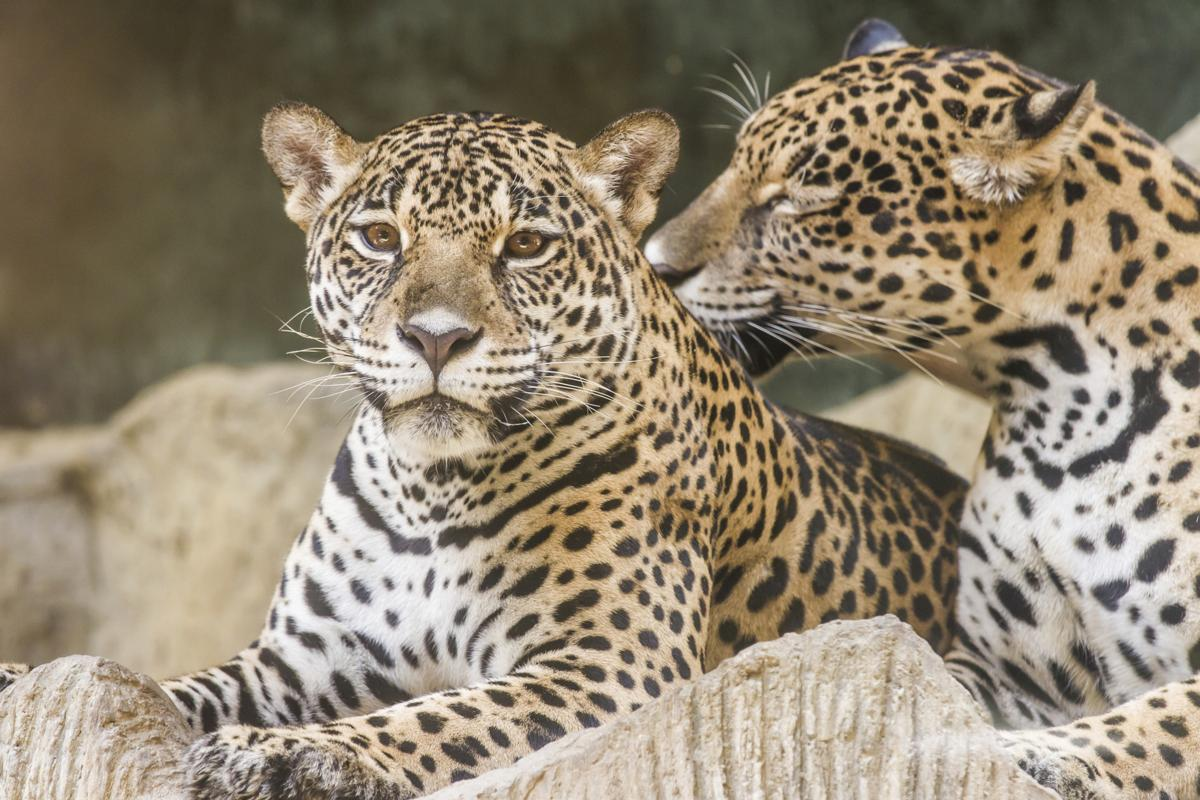leopard: (88, 88, 977, 796), (632, 19, 1200, 775)
